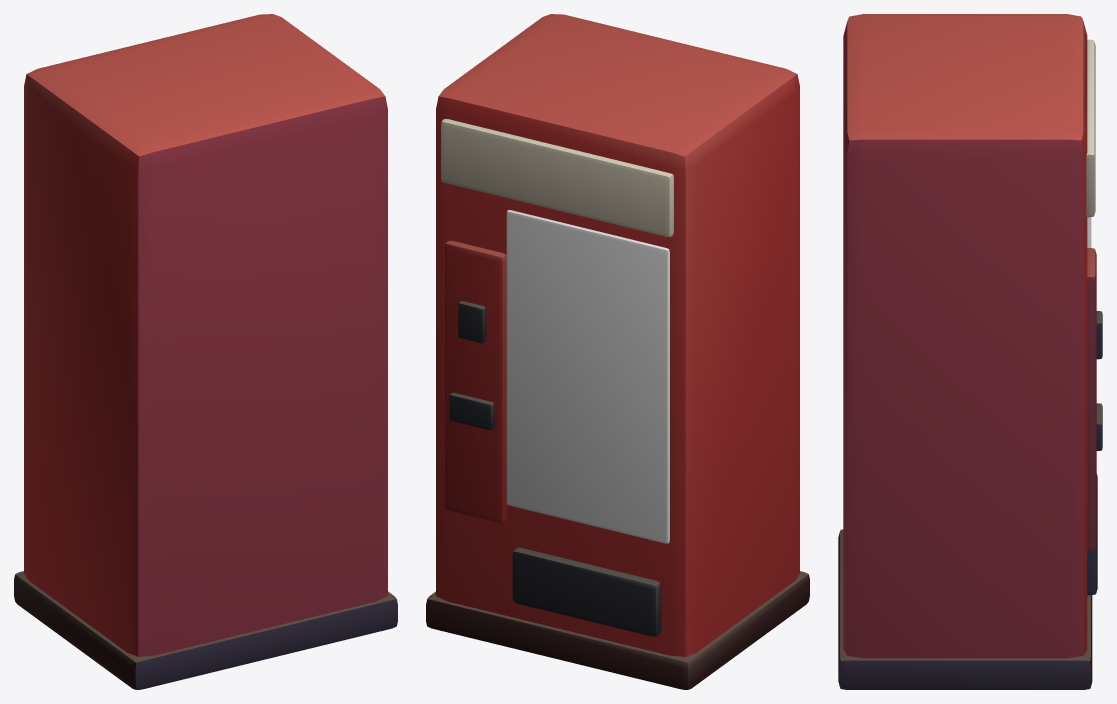
File: Vending.fbx
The picture shows the model from 3 angles, left to right: view 1: azimuth 30°, elevation 25°; view 2: azimuth 150°, elevation 25°; view 3: azimuth 270°, elevation 25°; orthographic projection. The views are drawn at different scales.
Visible parts, largest first — view 1: SM_Yard_Vending; view 2: SM_Yard_Vending, SM_Yard_Vending_Window; view 3: SM_Yard_Vending.
Part boxes in pixels (left/top/right/bottom): SM_Yard_Vending: left=14, top=14, right=397, bottom=689; SM_Yard_Vending: left=426, top=14, right=809, bottom=689; SM_Yard_Vending_Window: left=506, top=210, right=669, bottom=543; SM_Yard_Vending: left=838, top=14, right=1102, bottom=689.
Size of the model in its own units: 3.1 by 6 by 2.6.
